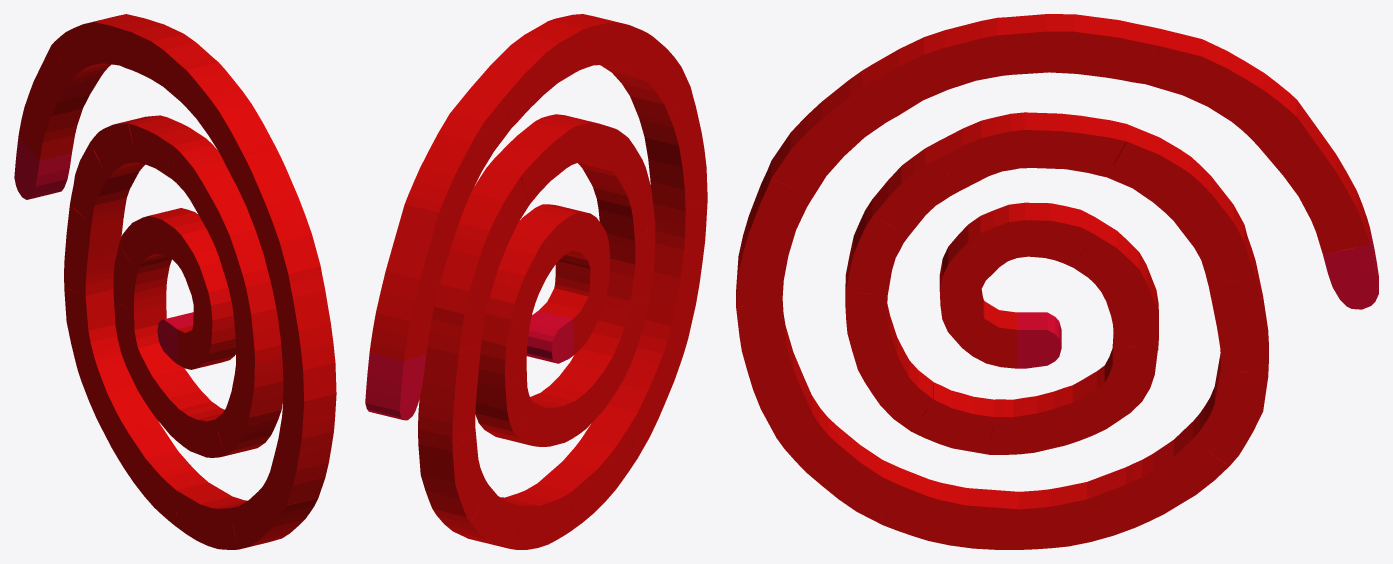
3 views of the same model, side by side, from view 1: azimuth 30°, elevation 25°; view 2: azimuth 150°, elevation 25°; view 3: azimuth 270°, elevation 25° (orthographic). The views are drawn at different scales.
Parts seen in each view (by area): view 1: 28, 29, 30, 27, 33, 31, 24, 21, 23, 22, 16, 26 (+22 smaller); view 2: 33, 32, 27, 26, 31, 28, 21, 25, 20, 19, 22, 29 (+22 smaller); view 3: 32, 31, 30, 33, 25, 29, 26, 24, 27, 28, 23, 19 (+22 smaller).
Boxes of the visible parts, x1=… form: 28: x1=270, y1=266, x2=336, y2=401; 29: x1=232, y1=147, x2=320, y2=278; 30: x1=179, y1=58, x2=275, y2=176; 27: x1=270, y1=384, x2=336, y2=505; 33: x1=18, y1=45, x2=100, y2=160; 31: x1=112, y1=18, x2=213, y2=99; 24: x1=124, y1=425, x2=208, y2=526; 21: x1=64, y1=205, x2=123, y2=295; 23: x1=81, y1=363, x2=160, y2=468; 22: x1=64, y1=288, x2=124, y2=381; 16: x1=204, y1=195, x2=267, y2=280; 26: x1=229, y1=472, x2=318, y2=549; 33: x1=369, y1=204, x2=456, y2=360; 32: x1=405, y1=89, x2=511, y2=227; 27: x1=645, y1=198, x2=707, y2=336; 26: x1=595, y1=320, x2=688, y2=458; 31: x1=470, y1=24, x2=577, y2=127; 28: x1=637, y1=88, x2=707, y2=211; 21: x1=418, y1=342, x2=481, y2=451; 25: x1=538, y1=420, x2=637, y2=530; 20: x1=427, y1=249, x2=498, y2=354; 19: x1=450, y1=168, x2=530, y2=267; 22: x1=418, y1=427, x2=488, y2=523; 29: x1=600, y1=31, x2=690, y2=120; 32: x1=1145, y1=29, x2=1296, y2=146; 31: x1=1008, y1=14, x2=1161, y2=84; 30: x1=871, y1=17, x2=1013, y2=116; 33: x1=1259, y1=99, x2=1369, y2=253; 25: x1=882, y1=468, x2=1020, y2=549; 29: x1=771, y1=65, x2=895, y2=198; 26: x1=776, y1=396, x2=901, y2=524; 24: x1=1019, y1=467, x2=1134, y2=549; 27: x1=736, y1=301, x2=811, y2=436; 28: x1=736, y1=162, x2=811, y2=306; 23: x1=1125, y1=422, x2=1229, y2=527; 19: x1=1106, y1=124, x2=1211, y2=219.
Bounding box in the file's own units: 15.48 × 214 × 240.
